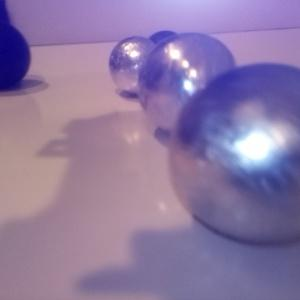alive_ball: (169, 63, 300, 245), (139, 33, 236, 138), (110, 36, 162, 95)
dead_ball: (1, 22, 31, 90), (150, 31, 180, 62)
